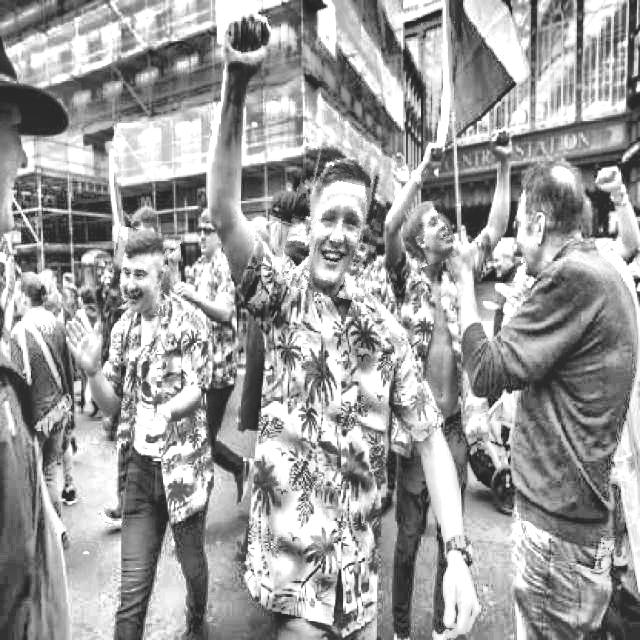happy: (284, 143, 389, 299), (109, 229, 178, 315), (405, 200, 456, 266)
